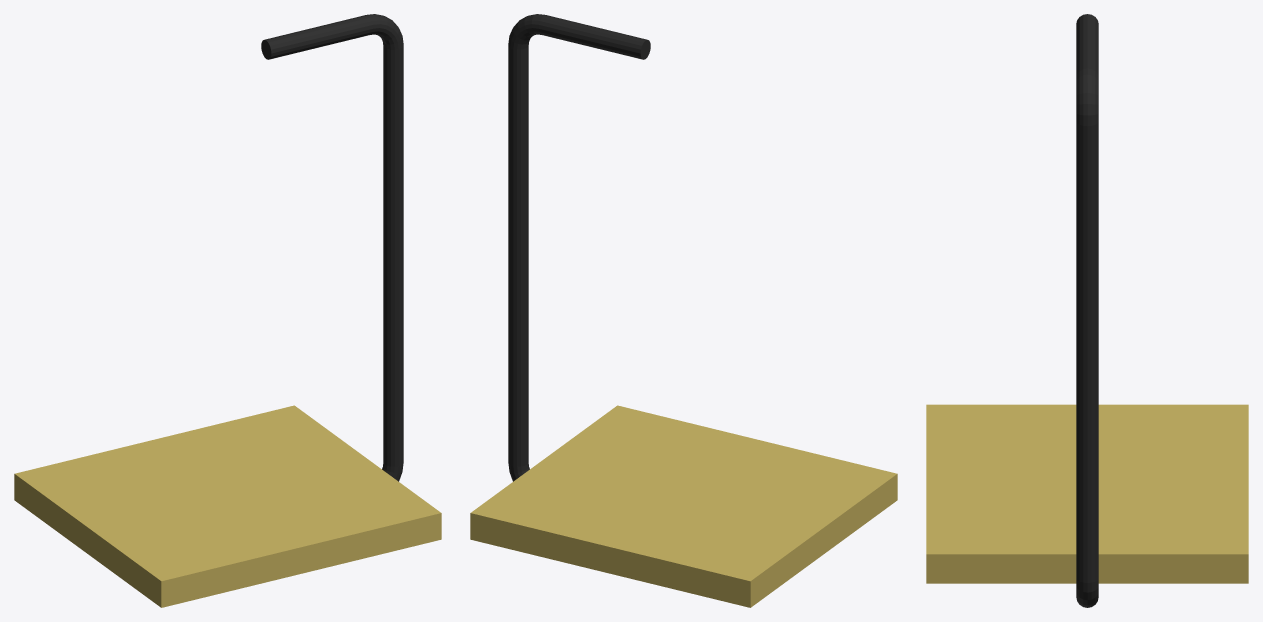
The model's file is Cart-Cart.fbx.
3 renders of one model, left to right at view 1: azimuth 30°, elevation 25°; view 2: azimuth 150°, elevation 25°; view 3: azimuth 270°, elevation 25°, orthographic. The views are drawn at different scales.
Parts seen in each view (by area): view 1: Cart-Cart, Cart-Cart.001, Cart-Cart.002, Cart-Cart.003; view 2: Cart-Cart, Cart-Cart.001, Cart-Cart.002, Cart-Cart.003; view 3: Cart-Cart, Cart-Cart.001, Cart-Cart.002, Cart-Cart.003, Cart-Cart.005.
Boxes of the visible parts, bbox=[...] form: Cart-Cart: bbox=[14, 405, 441, 607]; Cart-Cart.001: bbox=[383, 46, 403, 466]; Cart-Cart.002: bbox=[261, 15, 373, 59]; Cart-Cart.003: bbox=[367, 14, 403, 49]; Cart-Cart: bbox=[470, 405, 897, 607]; Cart-Cart.001: bbox=[508, 46, 528, 466]; Cart-Cart.002: bbox=[538, 15, 650, 59]; Cart-Cart.003: bbox=[508, 14, 544, 49]; Cart-Cart: bbox=[926, 404, 1248, 583]; Cart-Cart.001: bbox=[1076, 122, 1098, 582]; Cart-Cart.002: bbox=[1076, 14, 1098, 76]; Cart-Cart.003: bbox=[1076, 68, 1098, 126]; Cart-Cart.005: bbox=[1076, 579, 1098, 607].
Bounding box in the file's own units: 2.47 × 3.67 × 2.
Materials: 1 (1 with a texture image).
